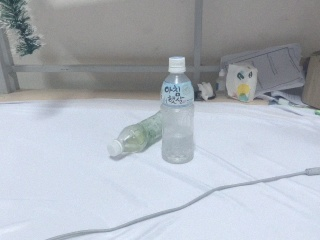bottle: (157, 55, 196, 165), (106, 111, 165, 161)
box: (301, 46, 320, 115)
